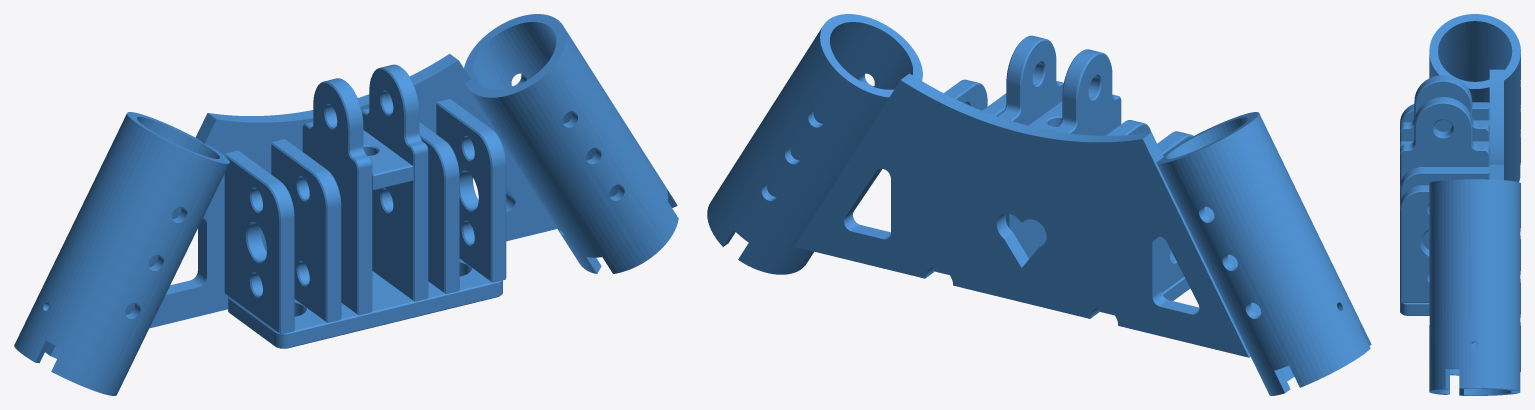
The model's file is aframe_v6.glb.
3 renders of one model, left to right at view 1: azimuth 30°, elevation 25°; view 2: azimuth 150°, elevation 25°; view 3: azimuth 270°, elevation 25°, orthographic. The views are drawn at different scales.
Parts seen in each view (by area): view 1: c_02a, c_02b, c_01, c_05b, c_03a, c_05a, c_04a, c_03b, c_07, c_04b, c_06; view 2: c_01, c_02a, c_02b, c_05b, c_05a, c_03a, c_03b; view 3: c_02b, c_02a, c_05b, c_03b, c_05a, c_01, c_04b, c_03a, c_07.
Boxes of the visible parts, x1,y1,x2,y2 form: c_02a: [14, 112, 229, 395]; c_02b: [464, 14, 678, 273]; c_01: [149, 54, 556, 328]; c_05b: [361, 64, 428, 301]; c_03a: [224, 150, 294, 334]; c_05a: [302, 78, 372, 315]; c_04a: [271, 139, 341, 322]; c_03b: [436, 99, 506, 282]; c_07: [228, 259, 502, 348]; c_04b: [419, 122, 459, 293]; c_06: [363, 130, 413, 190]; c_01: [794, 73, 1250, 357]; c_02a: [1156, 112, 1371, 395]; c_02b: [707, 14, 922, 274]; c_05b: [998, 35, 1063, 258]; c_05a: [1054, 49, 1121, 135]; c_03a: [1157, 131, 1193, 292]; c_03b: [944, 79, 987, 110]; c_02b: [1429, 179, 1520, 395]; c_02a: [1429, 14, 1520, 181]; c_05b: [1400, 97, 1489, 185]; c_03b: [1400, 185, 1429, 302]; c_05a: [1400, 75, 1489, 141]; c_01: [1489, 69, 1503, 180]; c_04b: [1400, 167, 1489, 275]; c_03a: [1400, 102, 1489, 125]; c_07: [1400, 303, 1429, 315].
Size of the model in its own units: 416 by 163 by 83.75.
